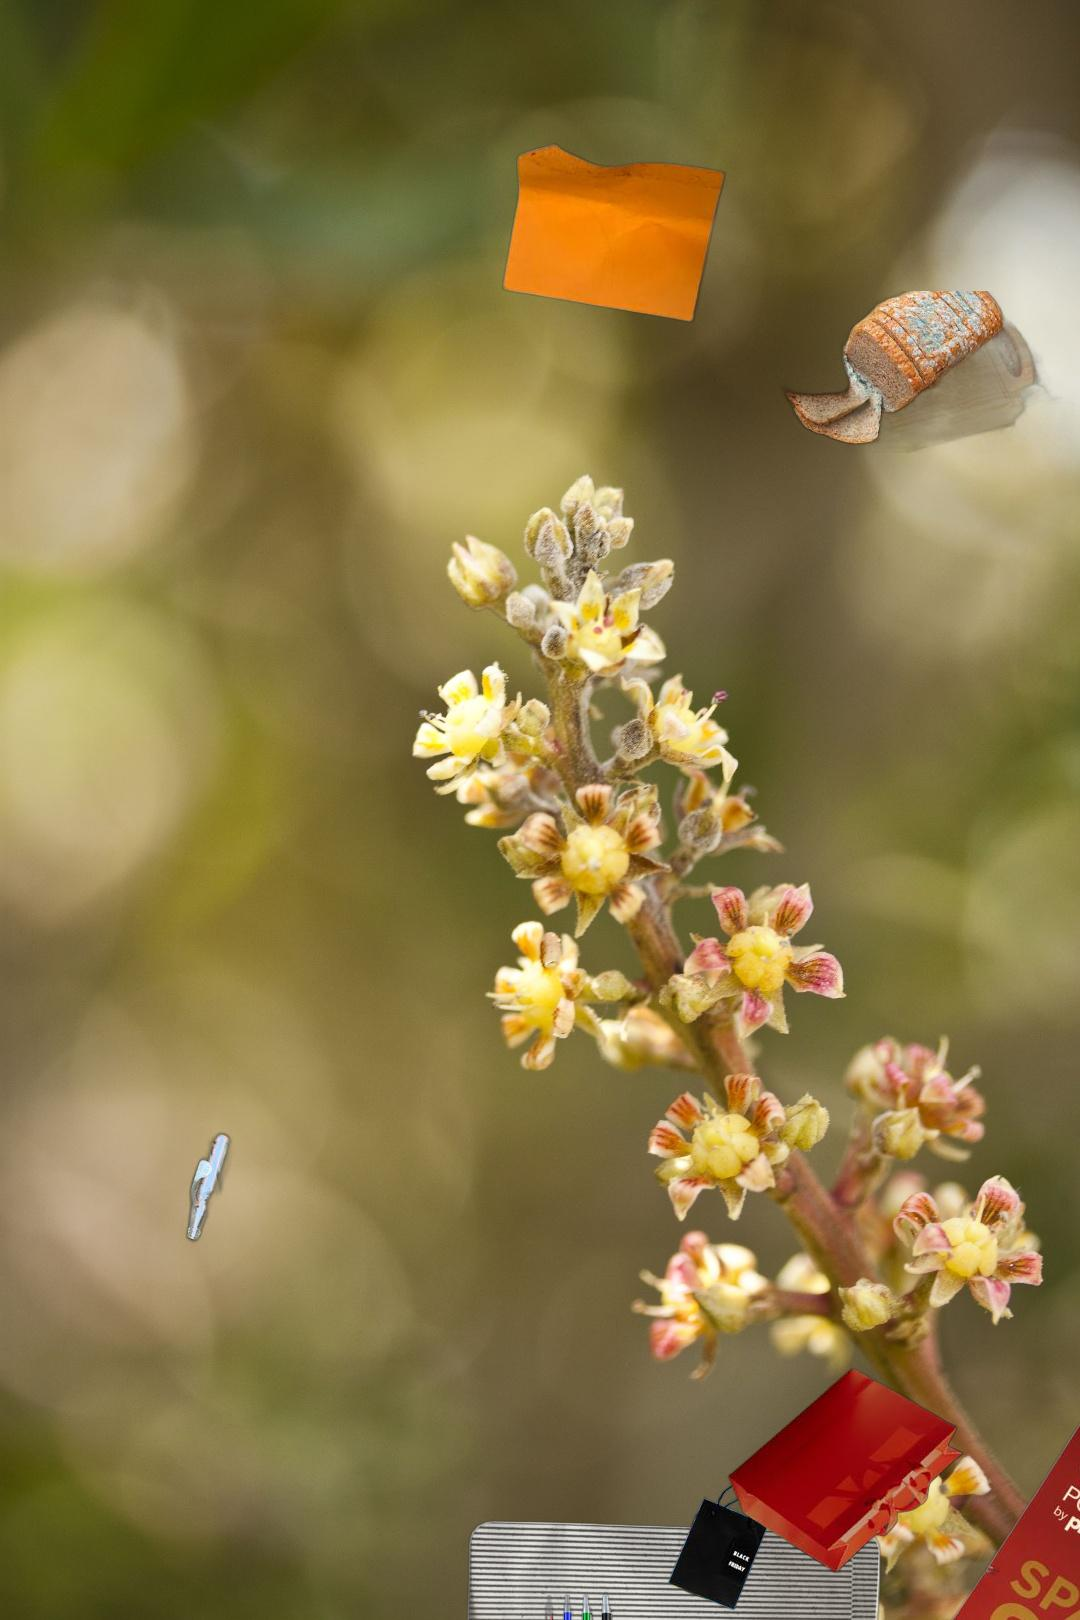biological: (765, 290, 1075, 453)
glass: (183, 1127, 236, 1248)
paper: (462, 1518, 885, 1620), (499, 140, 730, 325), (917, 1411, 1080, 1620)
paper-bag: (724, 1366, 965, 1579), (665, 1477, 771, 1612)
penholder: (499, 1585, 648, 1620)
